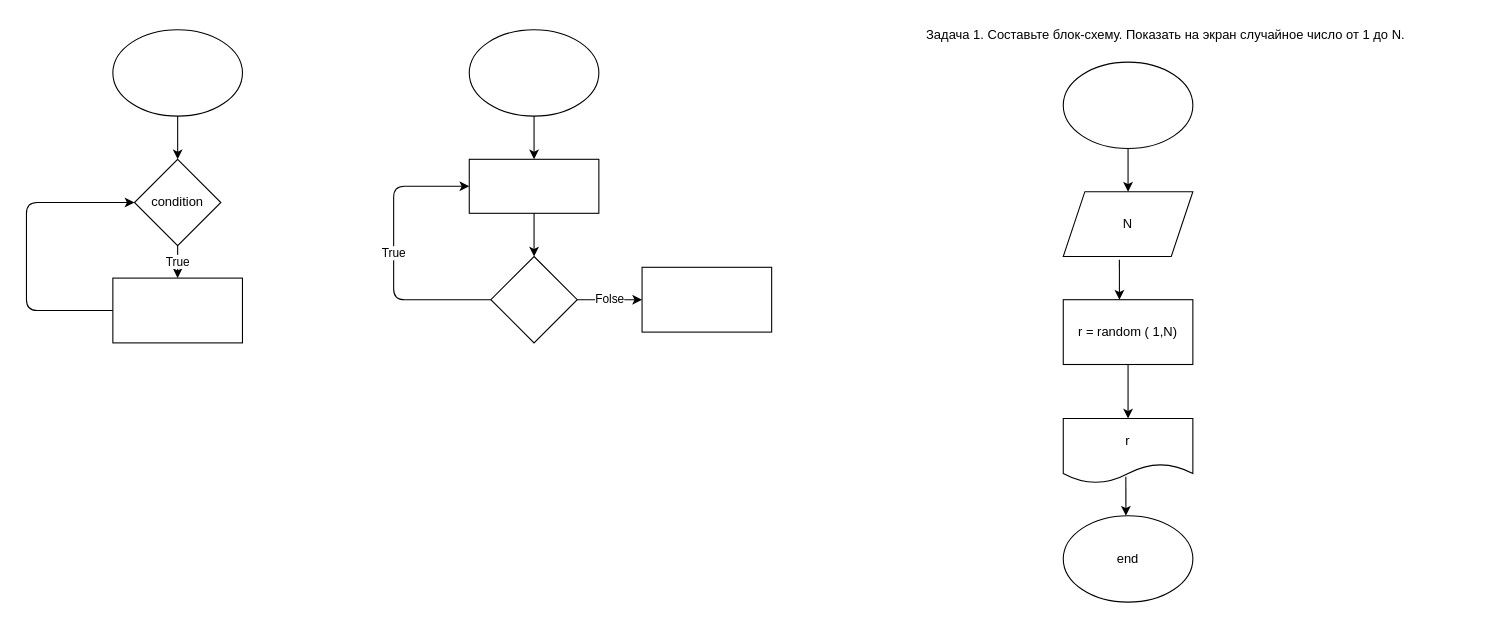
This 1503x621 diagram has some shape labels left out. The shapes that lost their labels are listed below. From the top down, each one's box as (x1, y1, x2, y2) in pixels, then its label:
(112, 29, 242, 116): Start end
(1062, 61, 1193, 148): Start
